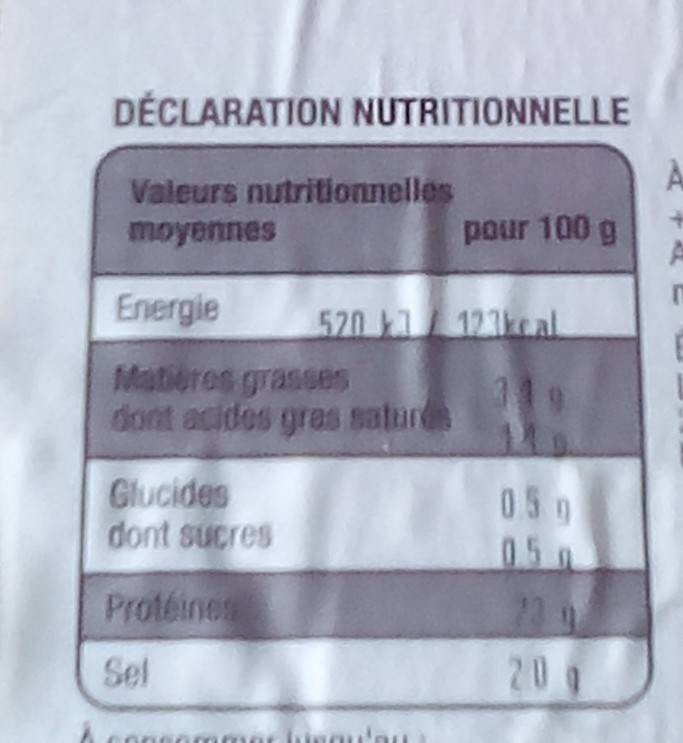column: (91, 276, 451, 703), (462, 267, 578, 702)
table: (80, 145, 655, 713)
